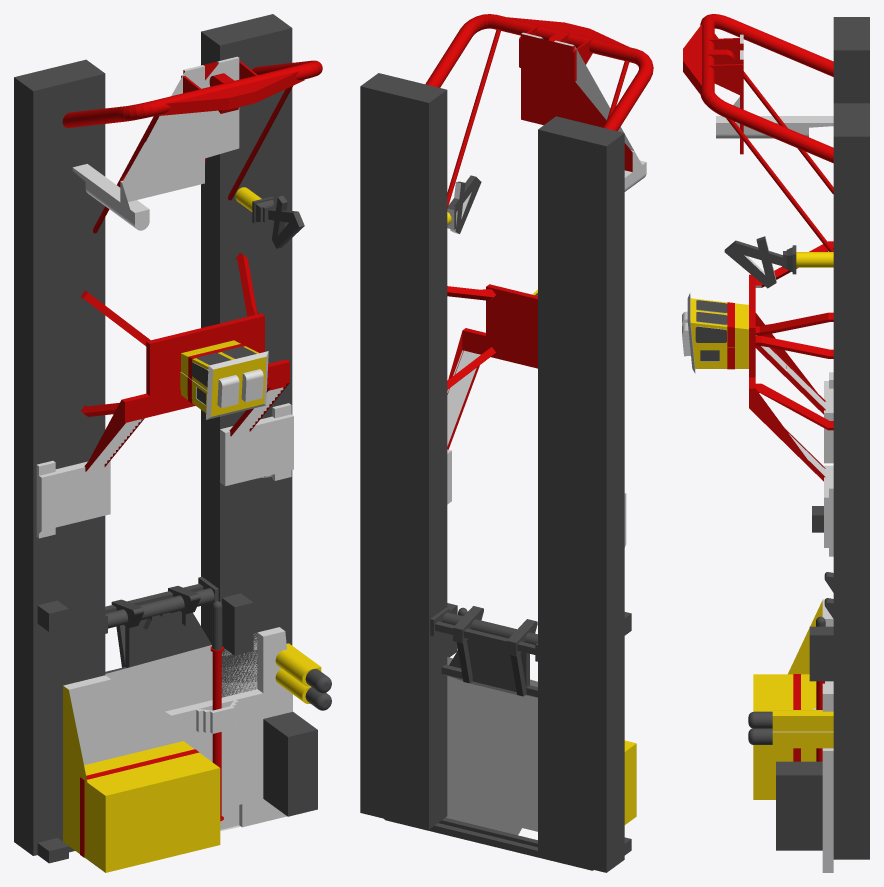
Rendered from SilviHull_wrl.glb.
3 renders of one model, left to right at view 1: azimuth 30°, elevation 25°; view 2: azimuth 150°, elevation 25°; view 3: azimuth 270°, elevation 25°, orthographic. The views are drawn at different scales.
Visible parts, largest first — view 1: Shape (×31); view 2: Shape (×19); view 3: Shape (×27).
Boxes of the visible parts, x1,y1,x2,y2 form: Shape (×31): [14, 14, 317, 872]; Shape (×19): [360, 17, 636, 872]; Shape (×27): [683, 17, 869, 872].
Bounding box in the file's own units: 469 × 1404 × 311.
